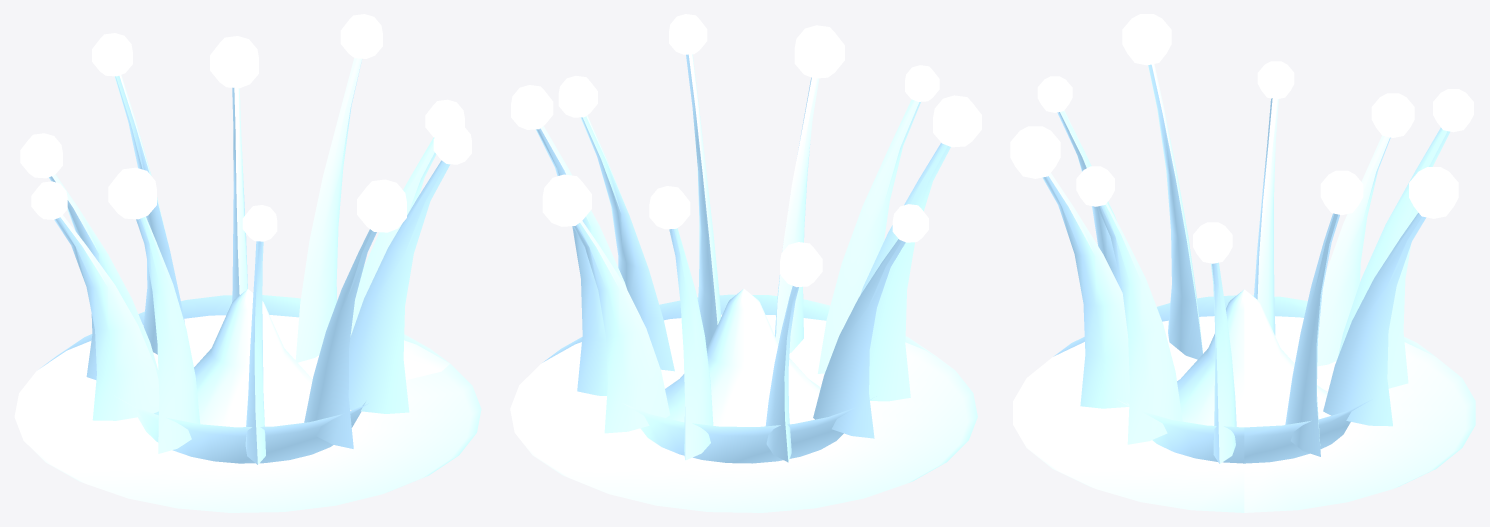
The model's file is vfx-mesh-library-water-splash-crown-40b9af2d__21863.glb.
3 renders of one model, left to right at view 1: azimuth 30°, elevation 25°; view 2: azimuth 150°, elevation 25°; view 3: azimuth 270°, elevation 25°, orthographic.
Parts seen in each view (by area): view 1: water-splash-crown; view 2: water-splash-crown; view 3: water-splash-crown.
Part boxes in pixels (<box>): water-splash-crown: <box>14,14,481,512</box>; water-splash-crown: <box>510,14,981,512</box>; water-splash-crown: <box>1010,14,1475,512</box>.
Bounding box in the file's own units: 0.88 × 0.6804 × 0.8791.
